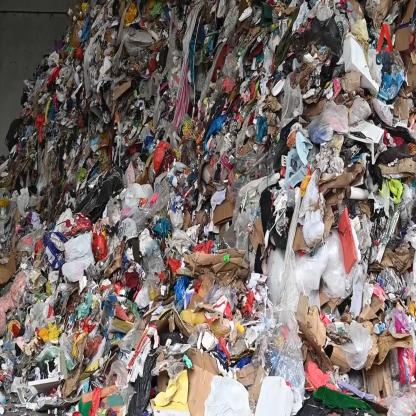Glass Bottle: (373, 320, 387, 336), (46, 405, 66, 416), (94, 258, 104, 274), (25, 319, 32, 336), (0, 391, 7, 404), (133, 99, 143, 108)
